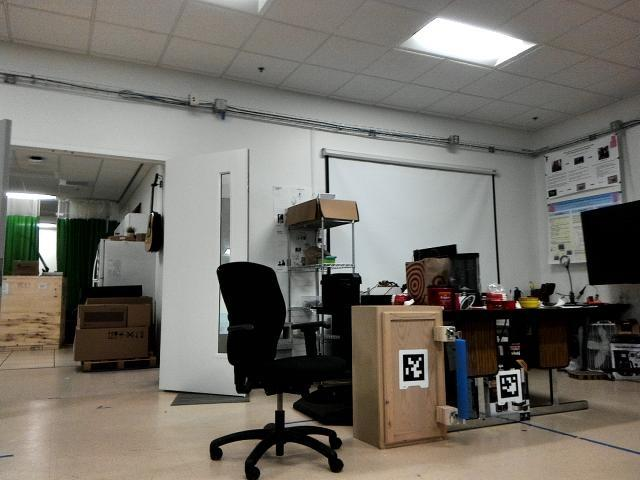noodle_handle: (450, 336, 475, 422)
